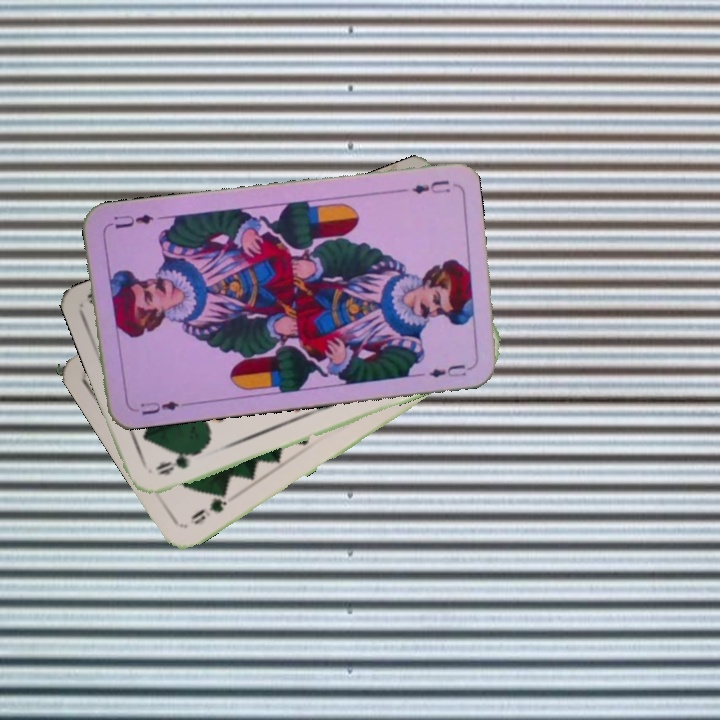EU: (128, 396, 182, 418), (408, 176, 453, 197)
G9: (187, 485, 231, 528)
GO: (151, 444, 205, 478)
